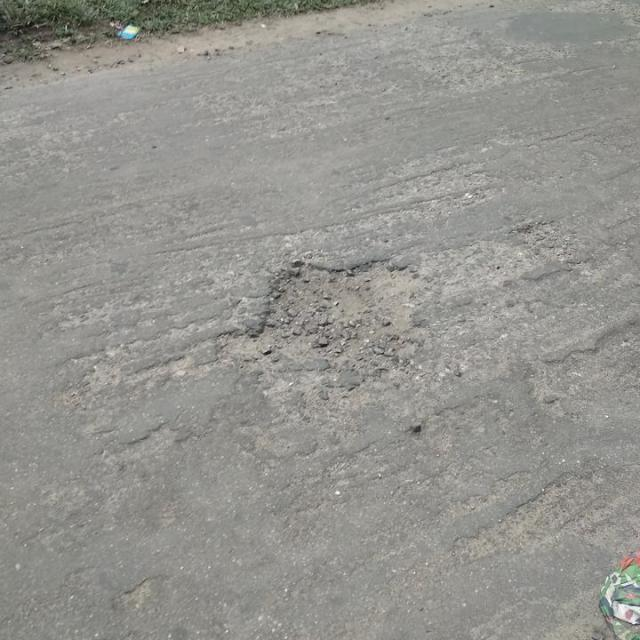pothole: (221, 250, 434, 372)
